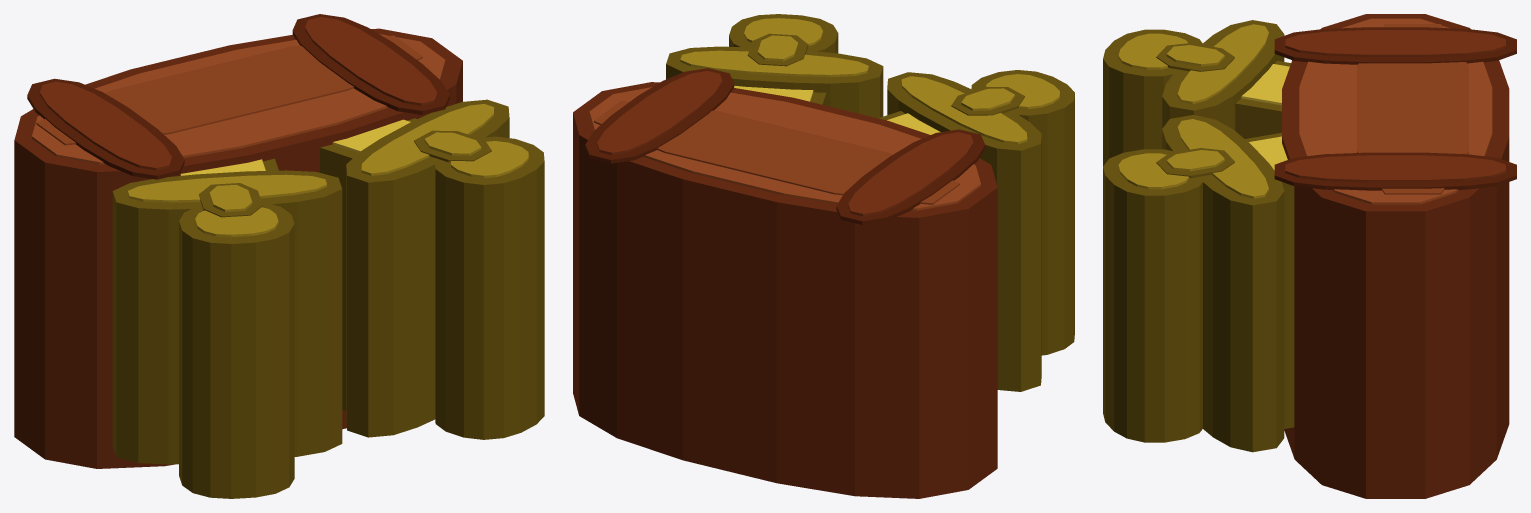
File: bag_espadas_ouro.fbx
3 renders of one model, left to right at view 1: azimuth 30°, elevation 25°; view 2: azimuth 150°, elevation 25°; view 3: azimuth 270°, elevation 25°, orthographic. The views are drawn at different scales.
Parts seen in each view (by area): view 1: bag_espadas_ouro_mochila; view 2: bag_espadas_ouro_mochila; view 3: bag_espadas_ouro_mochila.
Part boxes in pixels (left/top/right/bottom): bag_espadas_ouro_mochila: left=14, top=14, right=544, bottom=498; bag_espadas_ouro_mochila: left=573, top=14, right=1074, bottom=498; bag_espadas_ouro_mochila: left=1103, top=14, right=1516, bottom=498.
Size of the model in its own units: 2.71 by 1.89 by 2.4.
1 material, 1 textured.
